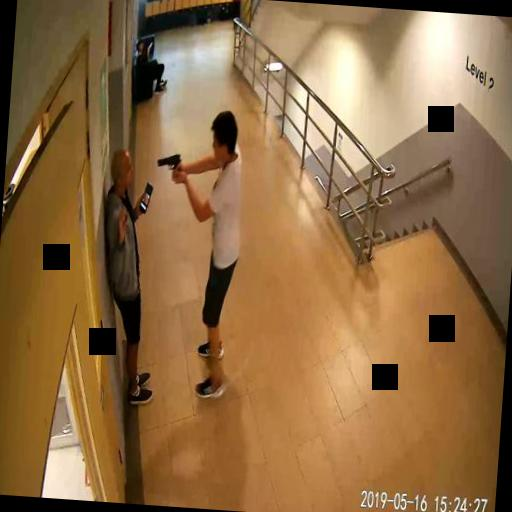Handgun: (155, 150, 180, 180)
